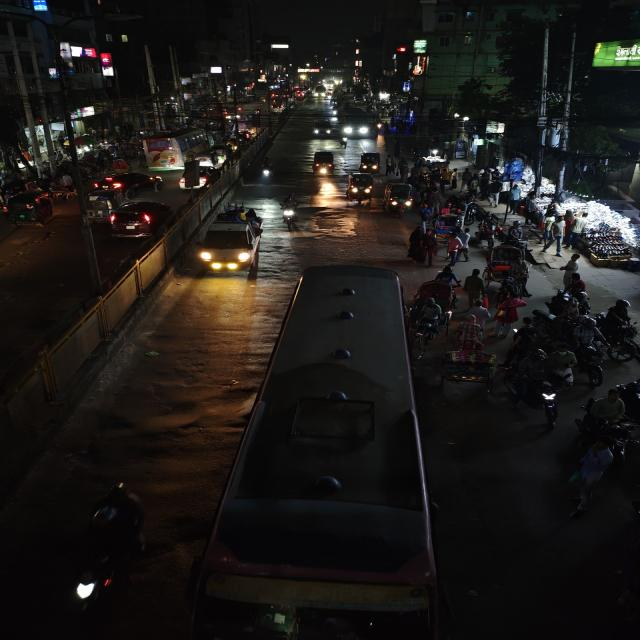bus: (215, 257, 432, 636), (139, 126, 211, 170), (340, 104, 374, 140)
car: (106, 199, 172, 240), (93, 171, 164, 193), (177, 162, 221, 192), (310, 120, 334, 139)
cng: (5, 190, 56, 229), (384, 182, 416, 218), (345, 171, 377, 205), (85, 188, 120, 216), (196, 144, 232, 170), (310, 149, 336, 176), (358, 151, 383, 173)
motorcycle: (68, 479, 152, 623), (586, 311, 640, 365), (520, 366, 568, 424), (277, 193, 302, 229), (257, 158, 277, 184)
pedestrian: (583, 388, 628, 434), (494, 291, 524, 338), (547, 342, 578, 386), (406, 226, 435, 266), (561, 266, 589, 306), (560, 252, 587, 284), (463, 268, 485, 307), (444, 233, 467, 265)
pickup_van: (196, 202, 266, 276)
rickshaw: (435, 342, 507, 392), (486, 244, 530, 292), (432, 213, 462, 239), (108, 158, 134, 174)
truck: (196, 202, 265, 276)
